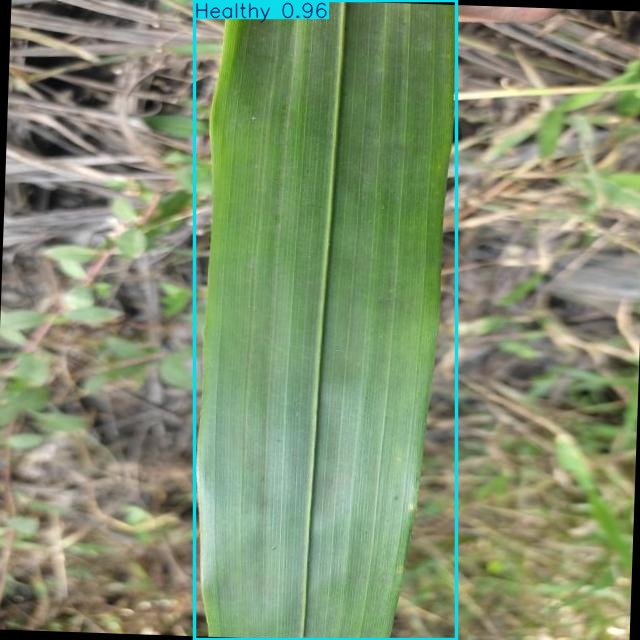Healthy: (195, 0, 457, 639)
